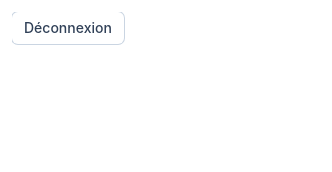
LogoutButton › logs out, clears every cached data and goes back to the login page
This screenshot has width=332, height=172.
Click the button "Déconnexion" at (68, 28), box [12,12,124,44]
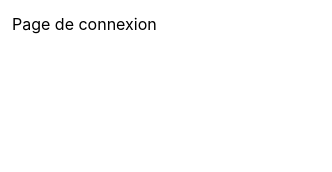
Check: the text "Page de connexion" is shown, box [12,14,157,34]
